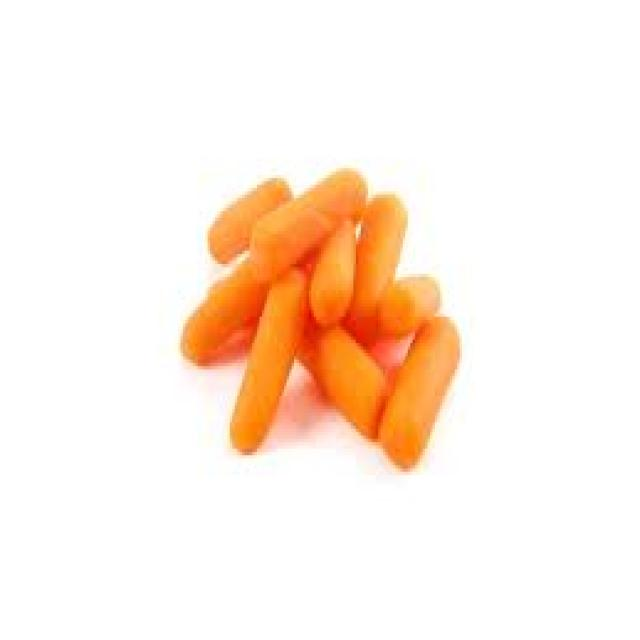carrot: (146, 138, 484, 495)
